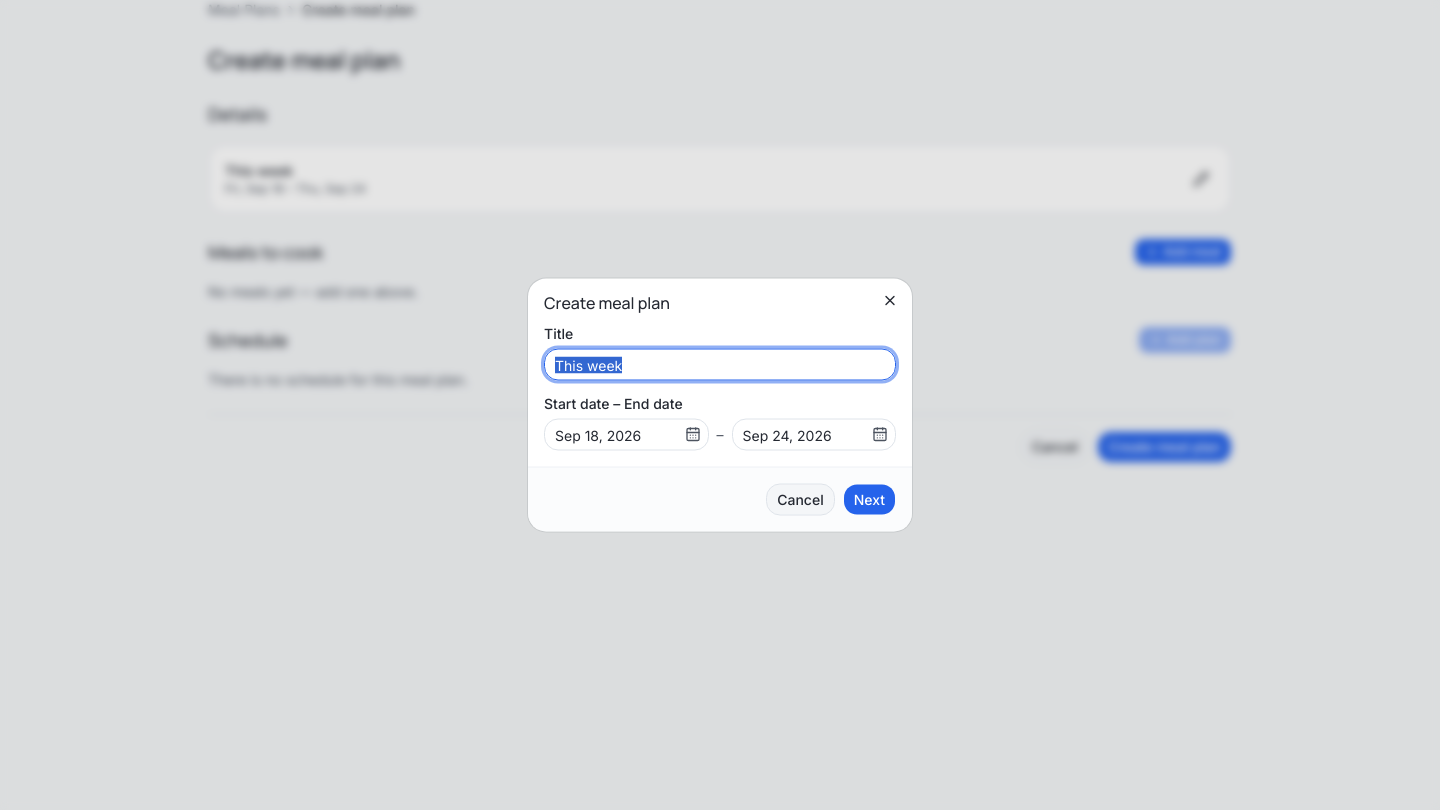
Test case: MealPlanEditor Add-meal picker › Favorites filters to Favorite-tagged candidates only
Click the button "Next": x=869, y=500 [843, 484, 896, 516]
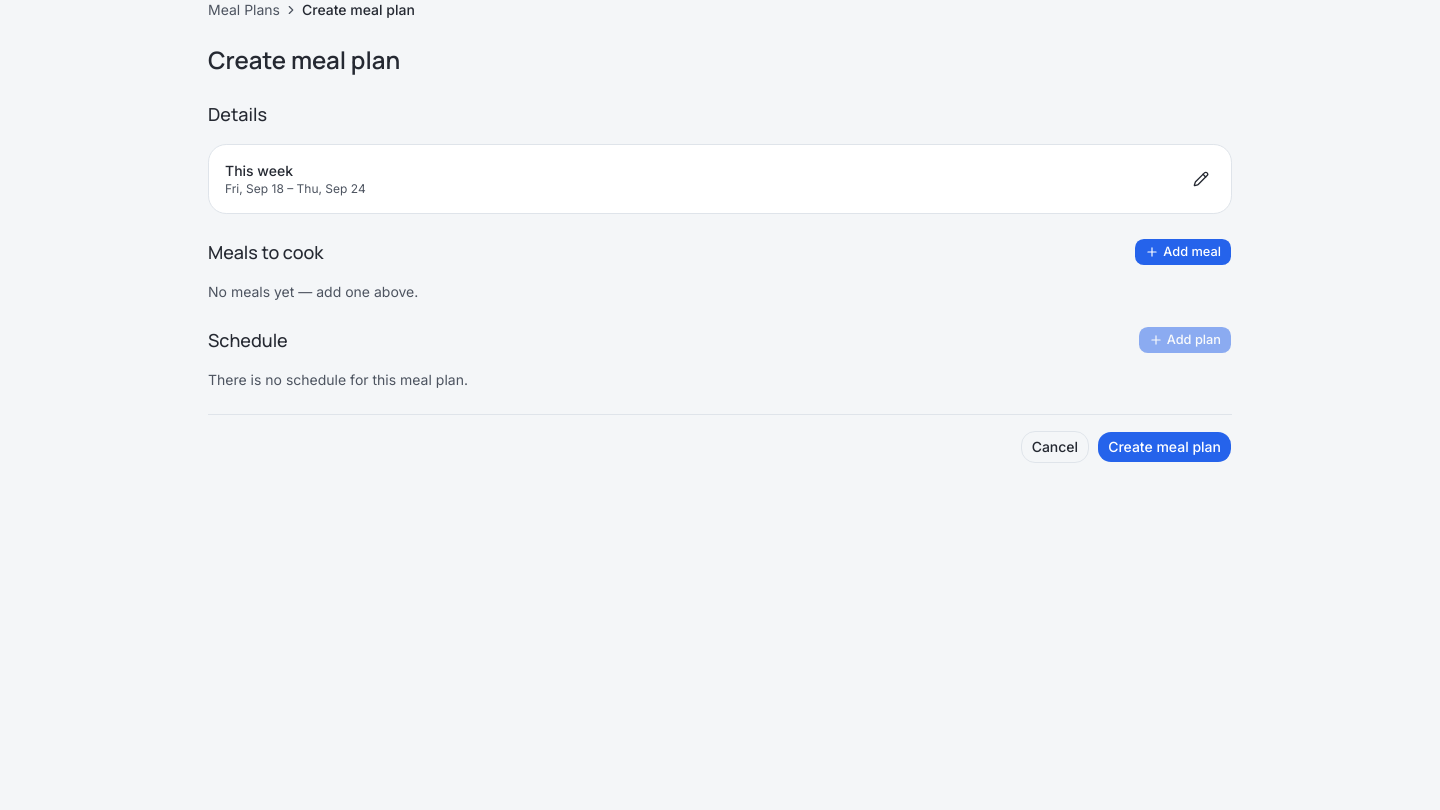
Click the button "Add meal": x=1183, y=252 [1134, 238, 1232, 266]
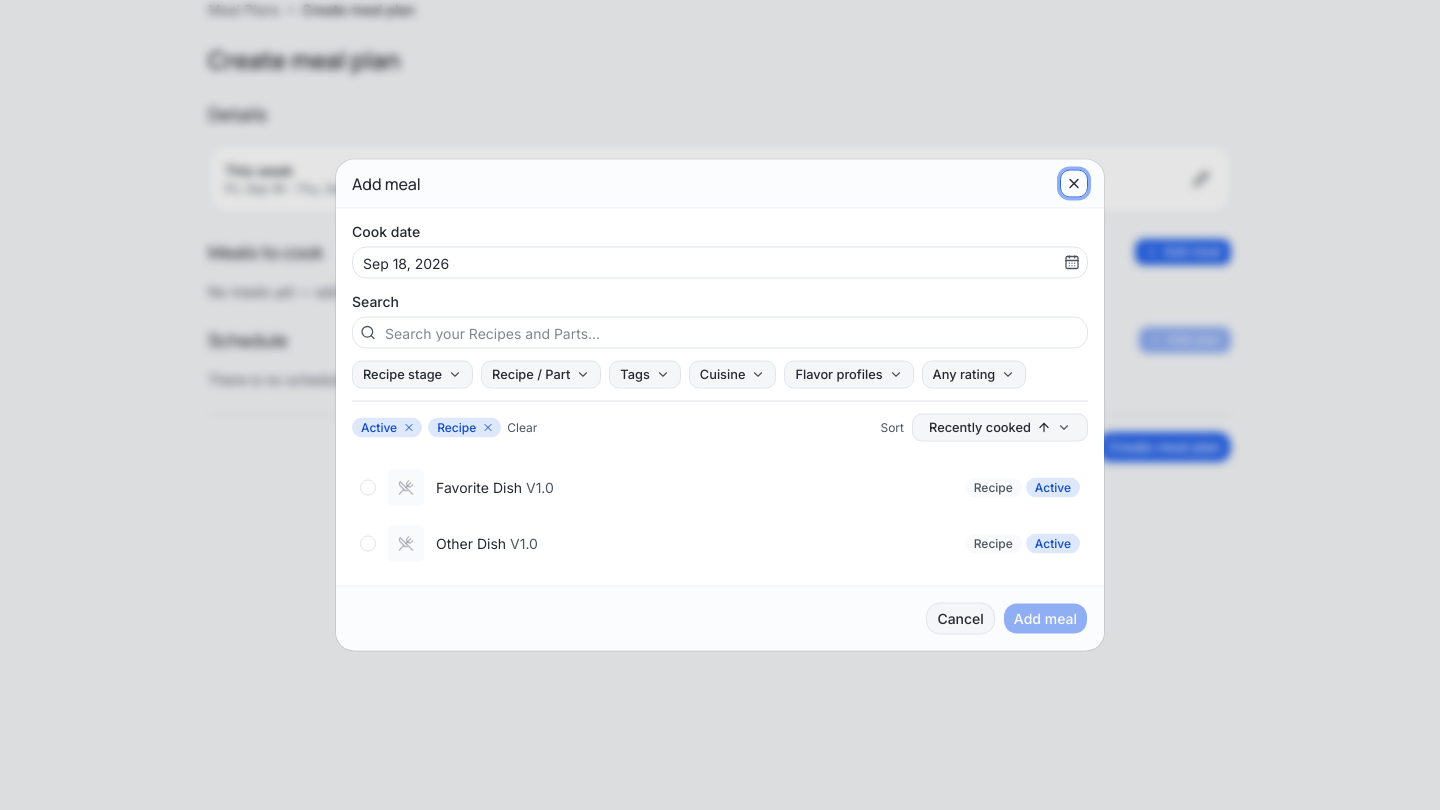
Expected: the text "Other Dish" is shown, [436, 534, 506, 552]
Click the button "Tags": x=645, y=374 [609, 360, 681, 388]
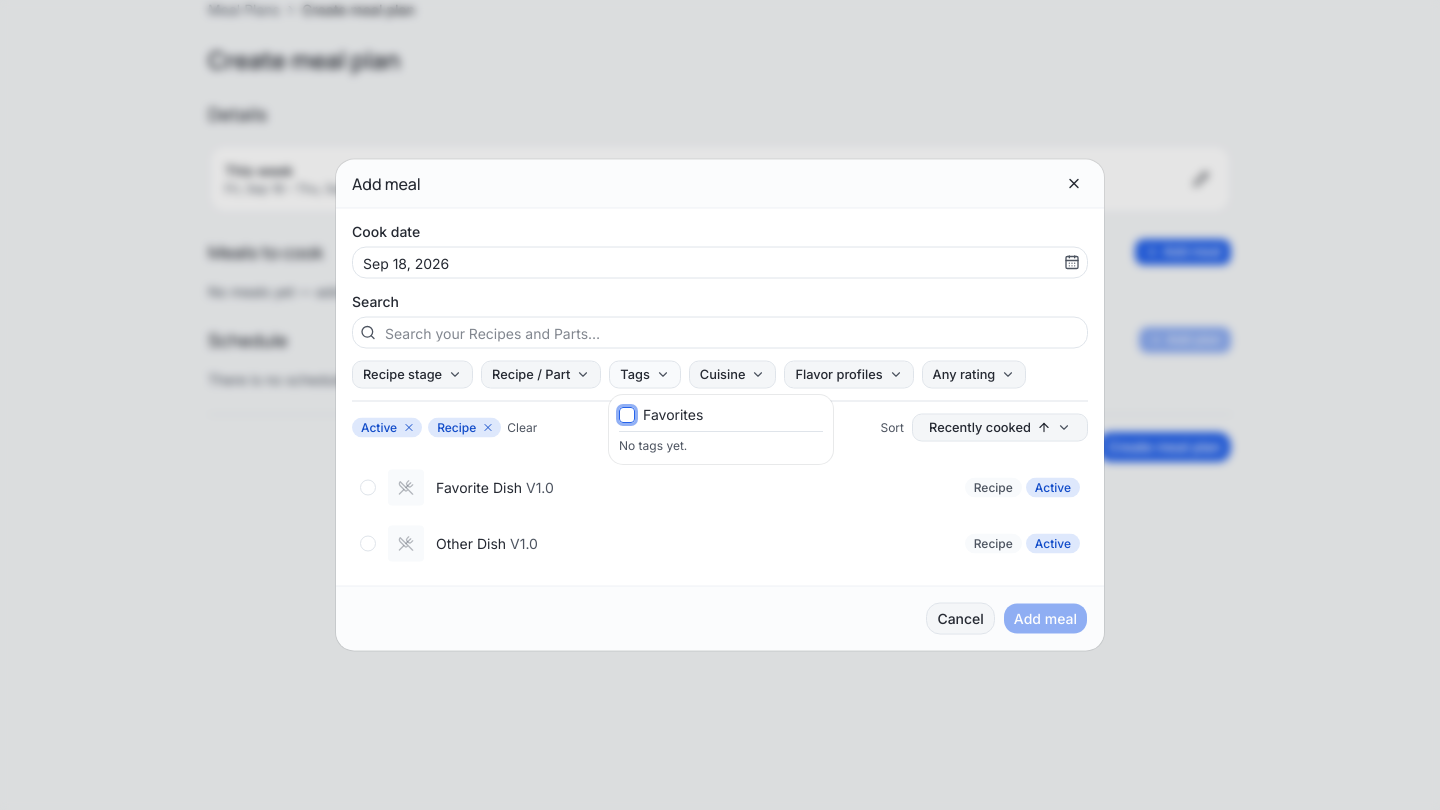
Click the checkbox named "Favorites": x=627, y=415 [619, 407, 635, 423]
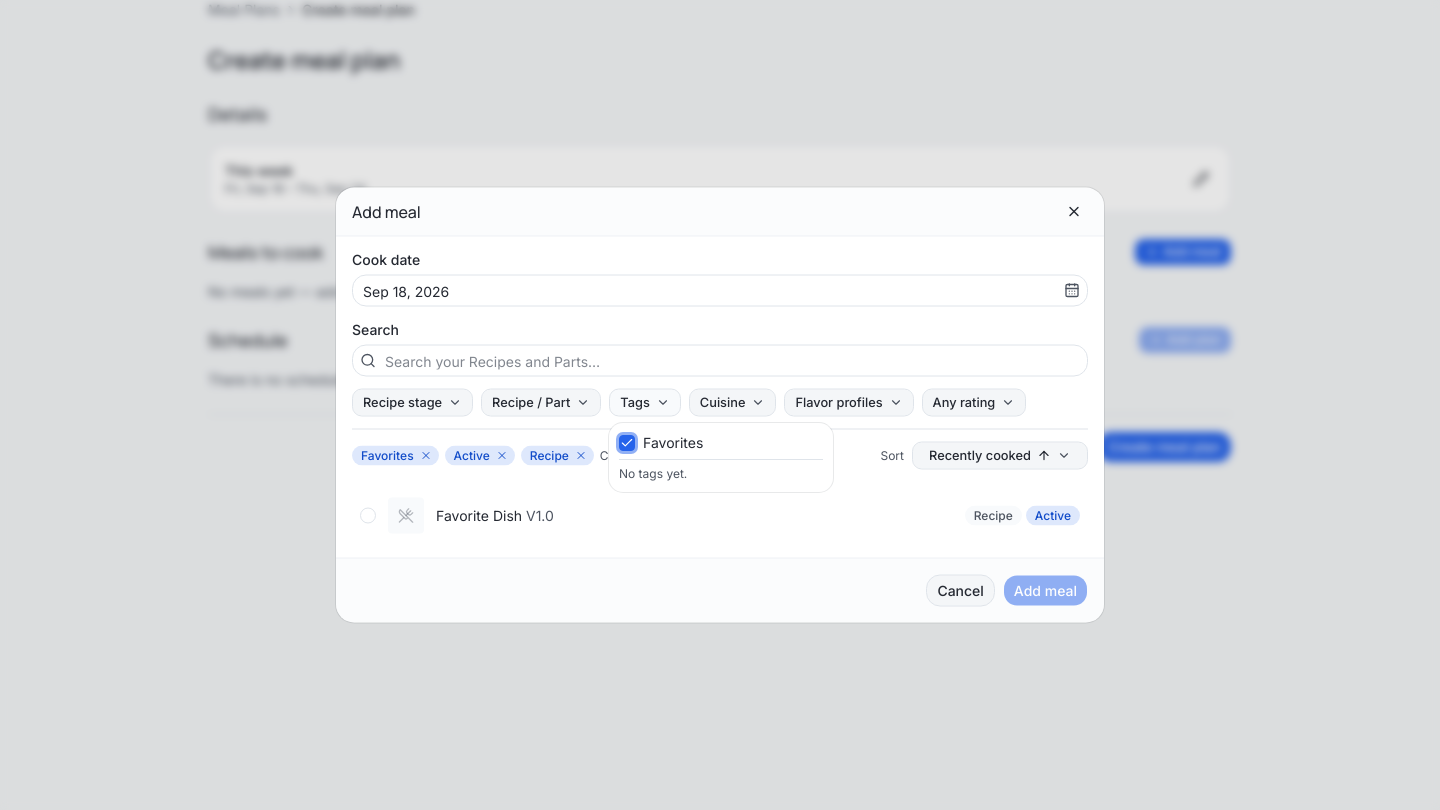
Expected: the text "Favorite Dish" is shown, [436, 506, 522, 524]
Expected: the radio button "Other Dish" is gone
